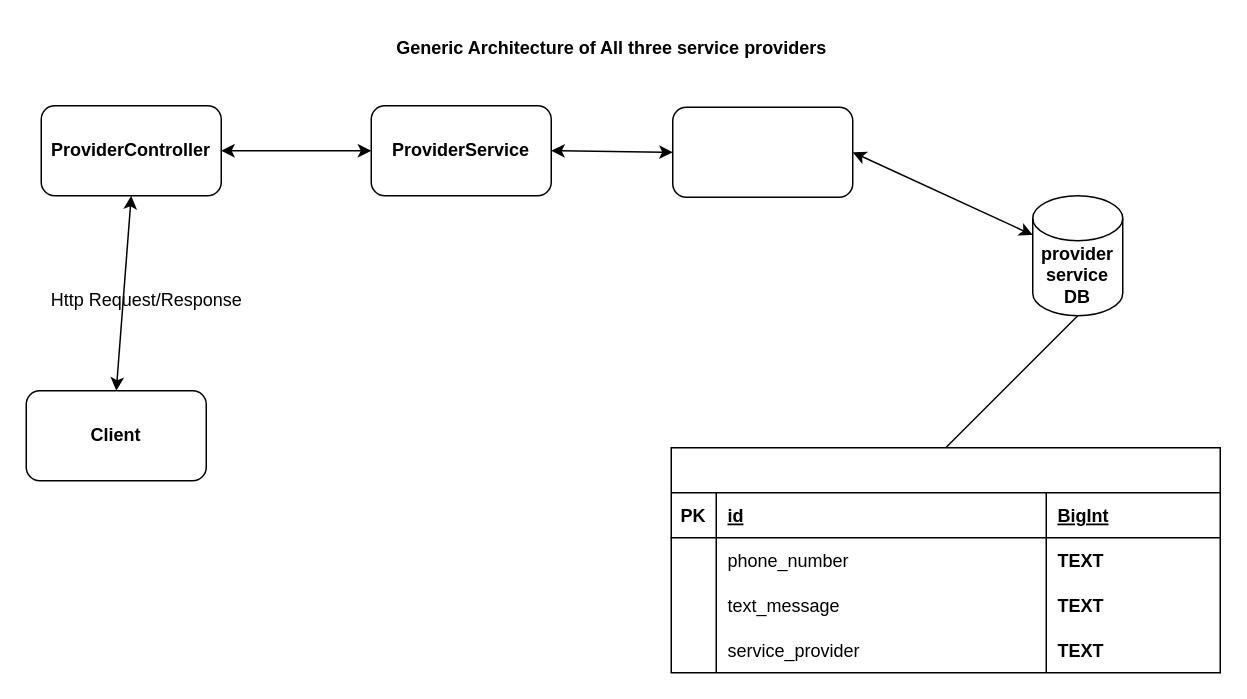
This 1247x699 diagram has some shape labels left out. The box of each missing label's shape, as (x1, y1, x2, y2) in pixels:
ProviderRepository: (671, 106, 853, 197)
sms: (670, 446, 1220, 673)
